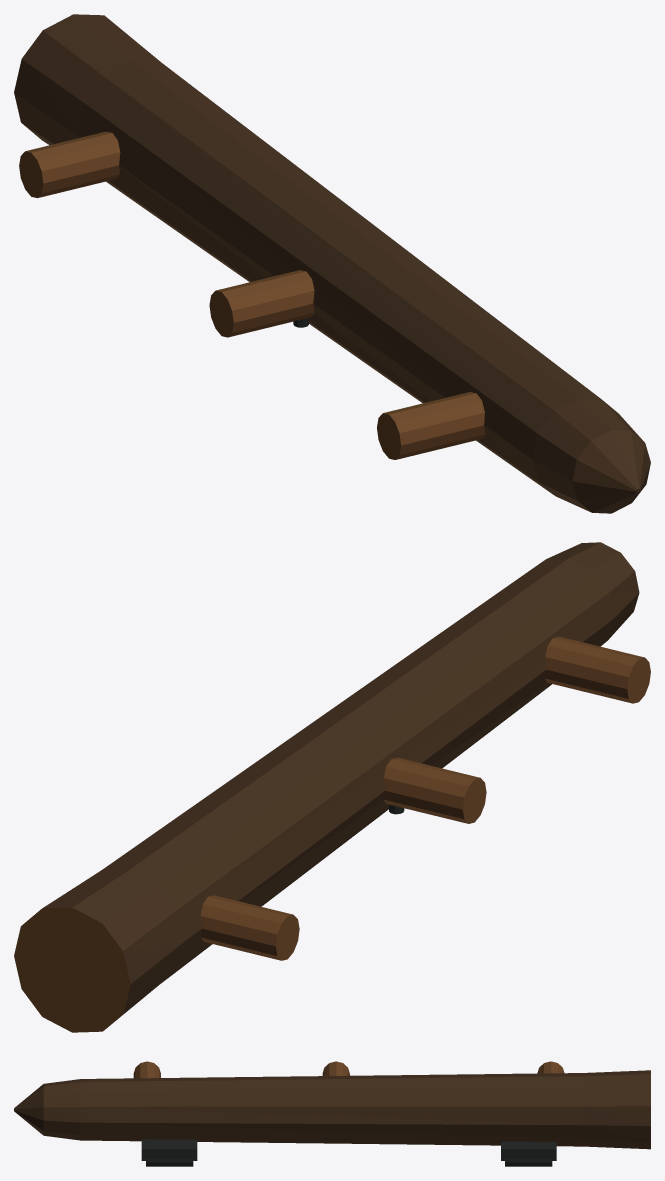
File: SM_Wattle_EndPost_1348_LOD0.obj
3 renders of one model, top to bottom at view 1: azimuth 30°, elevation 25°; view 2: azimuth 150°, elevation 25°; view 3: azimuth 270°, elevation 25°, orthographic. The views are drawn at different scales.
Visible parts, largest first — view 1: hewn_vertical_stake, one_side_rail_sockets, one_side_rail_sockets_cut; view 2: hewn_vertical_stake, one_side_rail_sockets, stake_bottom, one_side_rail_sockets_cut; view 3: hewn_vertical_stake, gate_hinge_plate, one_side_rail_sockets, vertical_pivot_iron.
Part boxes in pixels (left/top/right/bottom): hewn_vertical_stake: left=14, top=14, right=650, bottom=513; one_side_rail_sockets: left=26, top=131, right=485, bottom=459; one_side_rail_sockets_cut: left=19, top=151, right=400, bottom=459; hewn_vertical_stake: left=42, top=542, right=639, bottom=1023; one_side_rail_sockets: left=200, top=636, right=644, bottom=960; stake_bottom: left=14, top=907, right=130, bottom=1032; one_side_rail_sockets_cut: left=276, top=657, right=650, bottom=960; hewn_vertical_stake: left=14, top=1070, right=650, bottom=1149; gate_hinge_plate: left=141, top=1139, right=556, bottom=1160; one_side_rail_sockets: left=133, top=1061, right=564, bottom=1078; vertical_pivot_iron: left=146, top=1159, right=552, bottom=1166.
Size of the model in its own units: 0.351 by 0.2275 by 1.72.
